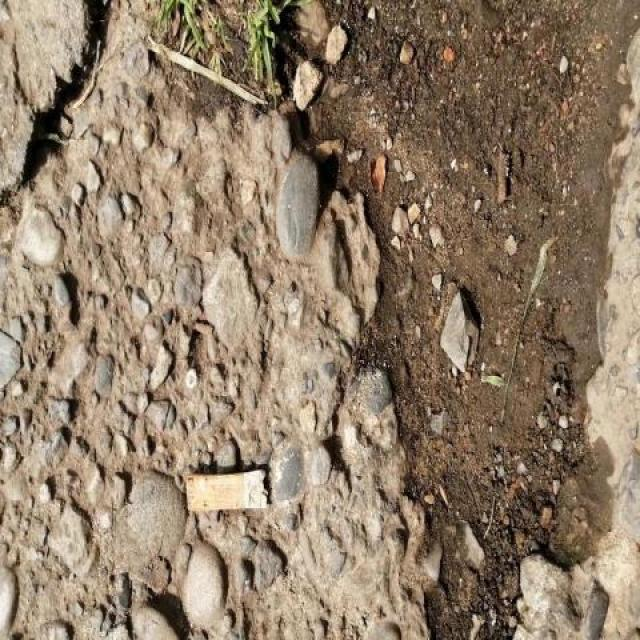non-organic waste: (183, 463, 278, 518)
